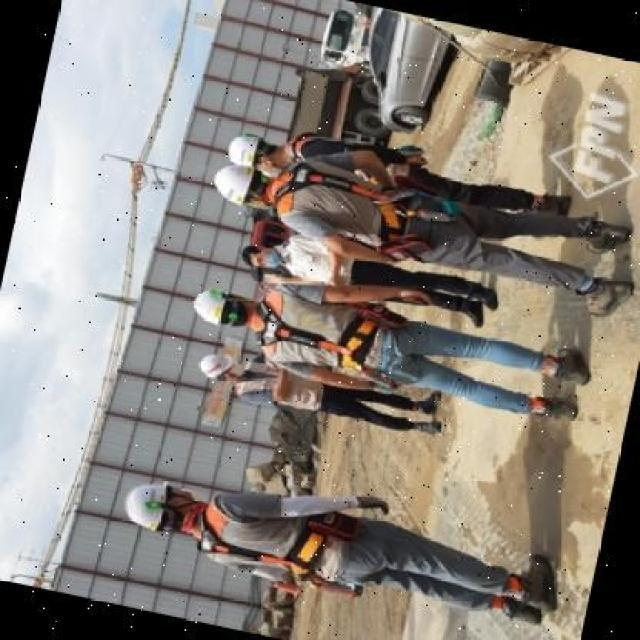Arnes_seguridad: (263, 152, 456, 265), (185, 480, 342, 593), (246, 282, 400, 375), (281, 126, 421, 194)
